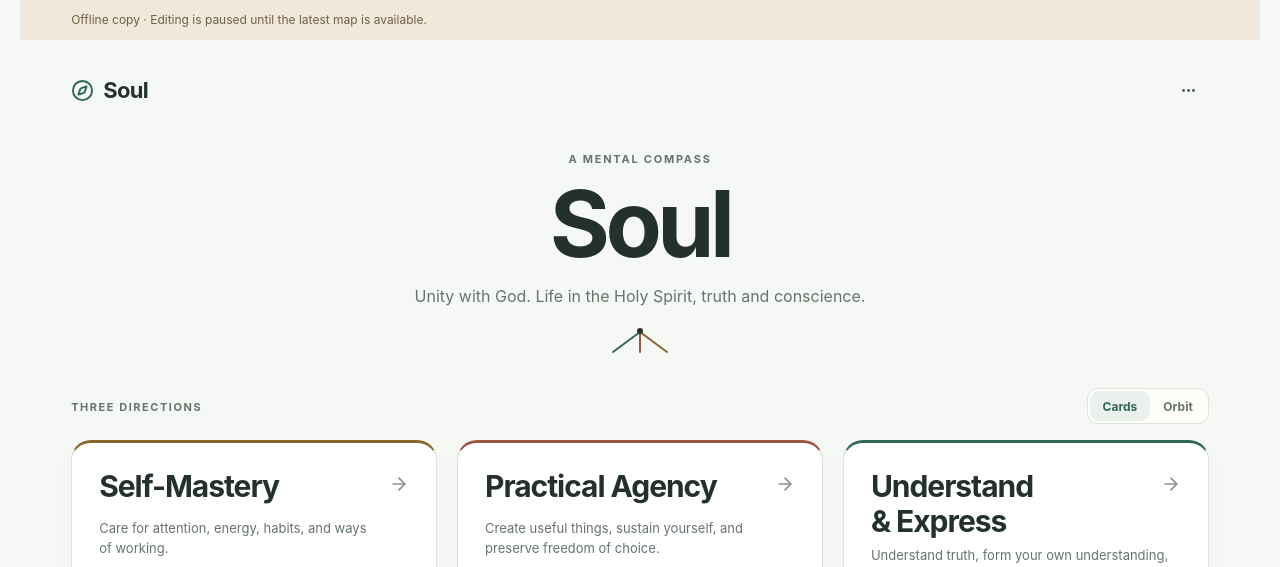
Soul compass › keeps the old notice, and Owner sign in, for a visitor on an offline copy
Expected: the text "Offline copy" reads "Offline copy · Editing is paused until the latest map is available.", [20,0,1260,40]
Click the button named "More options": (1188, 90) [1168,68,1209,112]
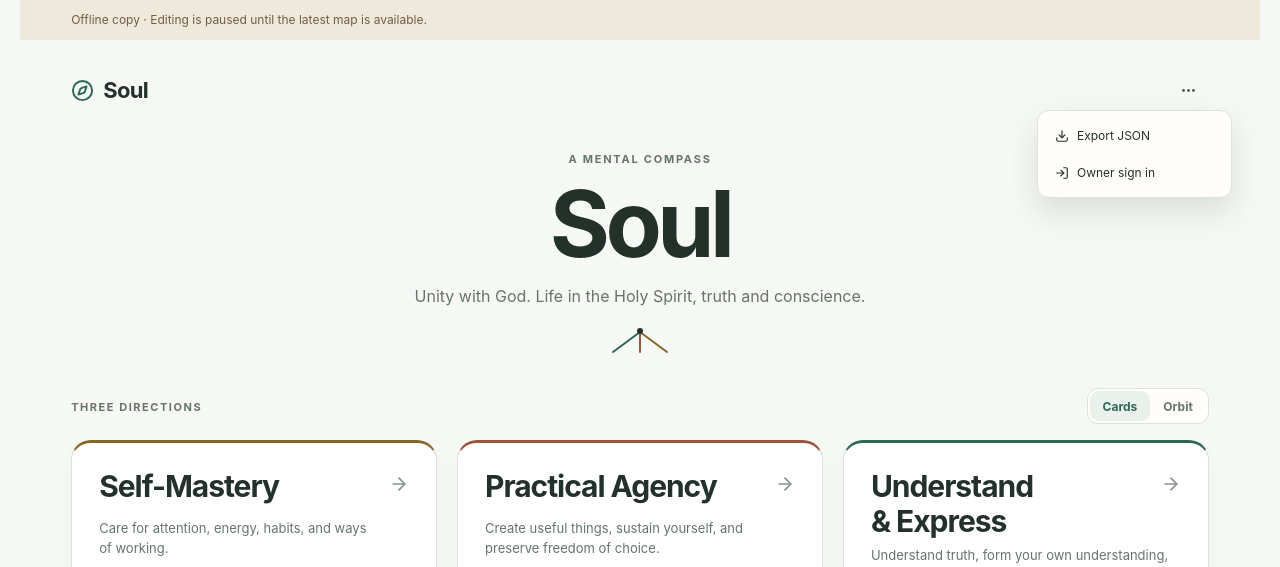
Expected: the button "Owner sign in" is shown, [1044,154,1225,191]
